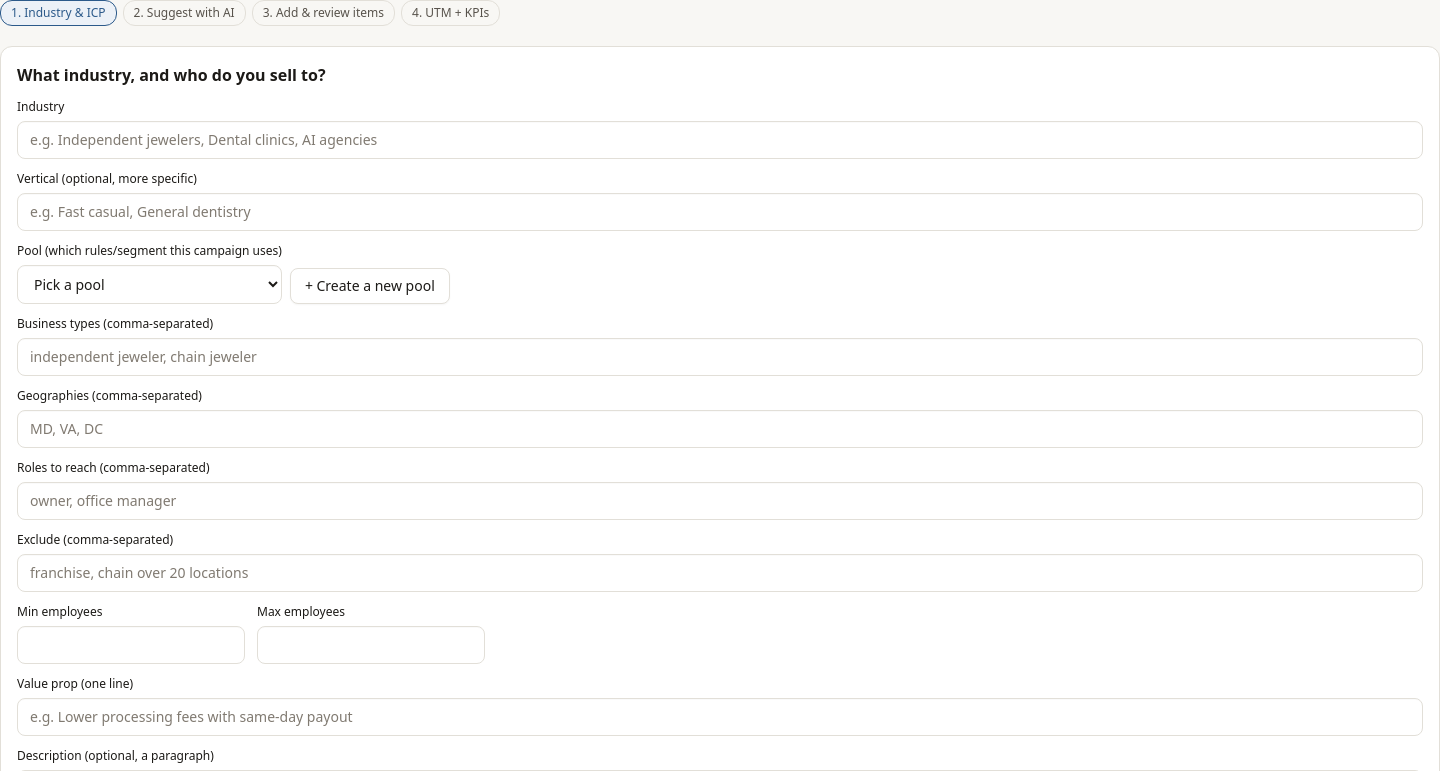
Test case: Campaign profile wizard › Step 4: renders UTM fields and KPI add form, and a Done button
The image size is (1440, 771).
Click the button "4. UTM + KPIs" at (451, 13), box [401,0,500,26]
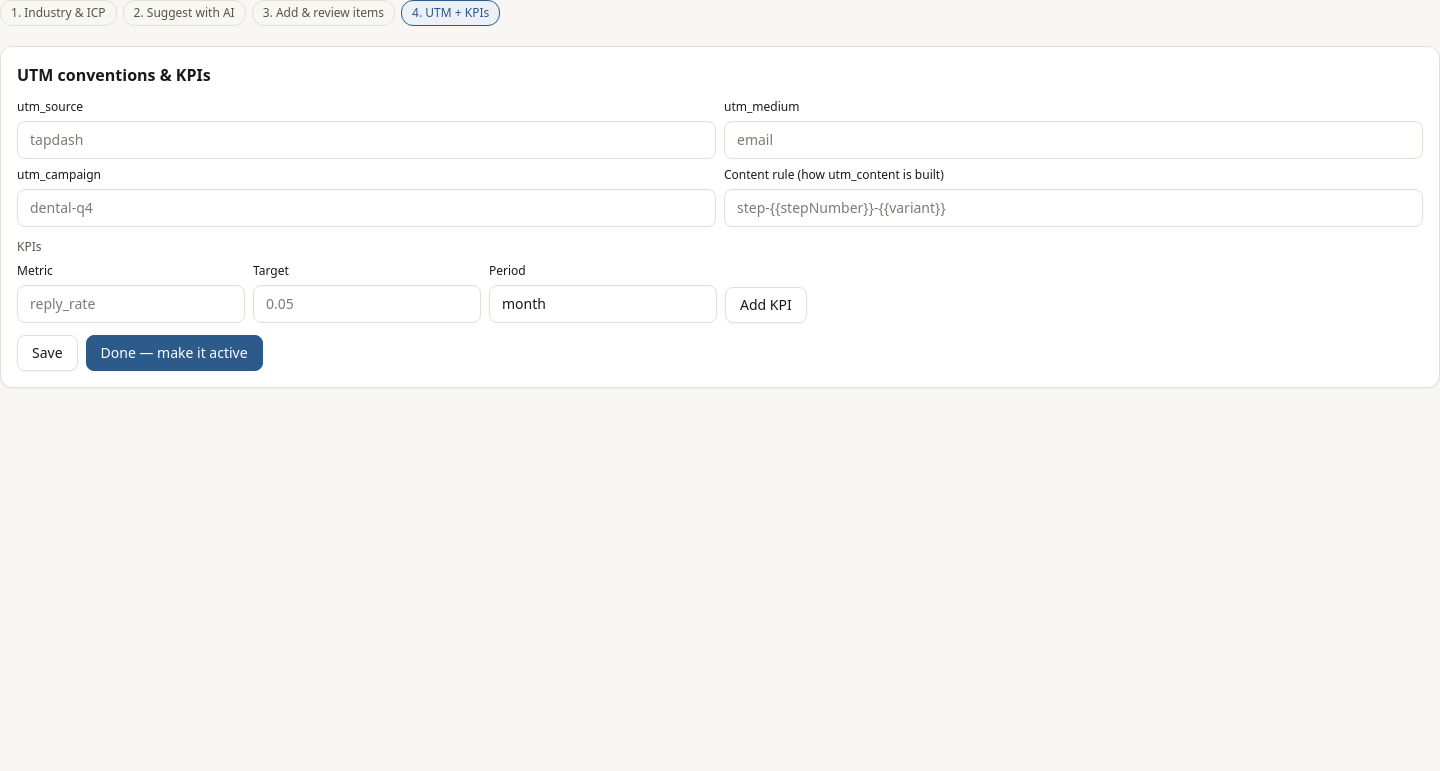
Check: the text "utm_source" is shown, box [17,99,716,159]
Check: the button "Done — make it active" is shown, box [86,335,263,371]
